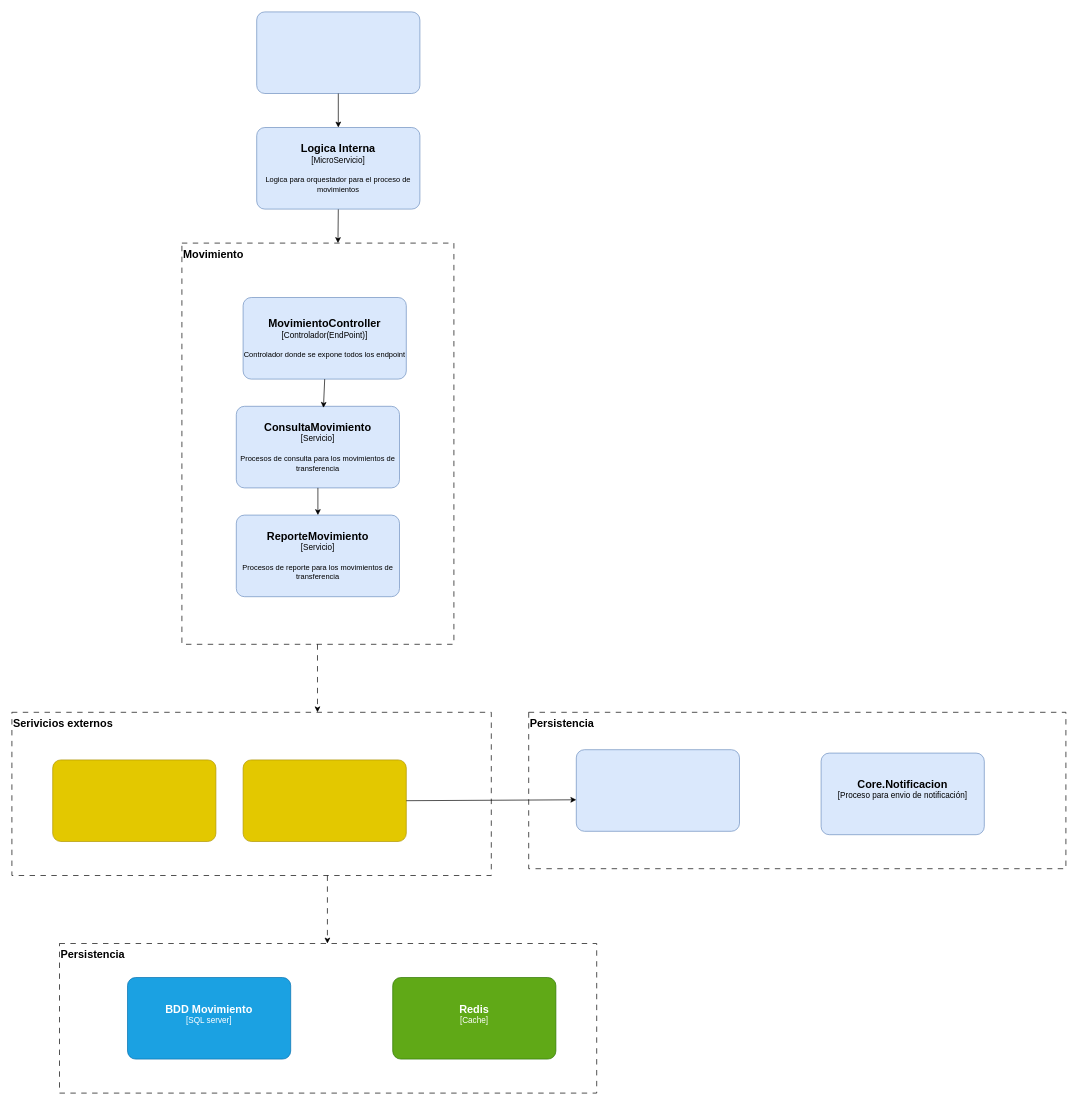
The diagram is 1078 pixels wide and 1105 high, and some of its shapes have lost their labels. Here are the shapes that lost their labels. From the top down, the centre of each, then its label:
At pixel 338 52: "Integrador.Movimiento [MicroServicio] Orquestador para el proceso de Movimiento".
At pixel 134 800: "Prometheus/Grafana [Monitoreo] Registra logs de monitoreo".
At pixel 324 800: "RabbitMQ [Servicio] Eventos de movimientos".
At pixel 658 790: "Core.log [Eventos para guarda log/auditoria]".
